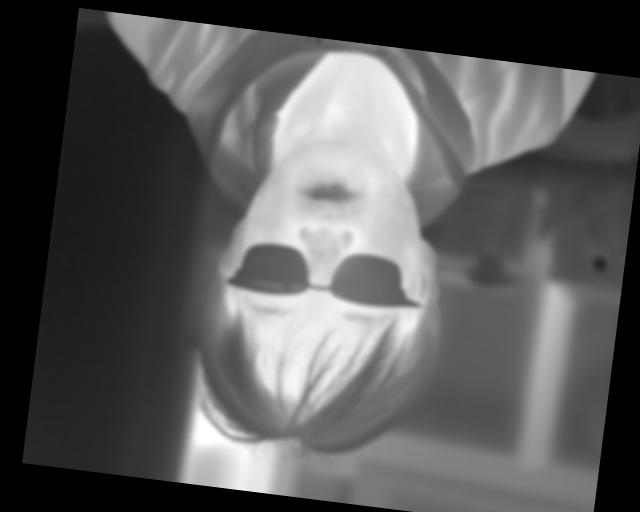face: (187, 125, 461, 471)
